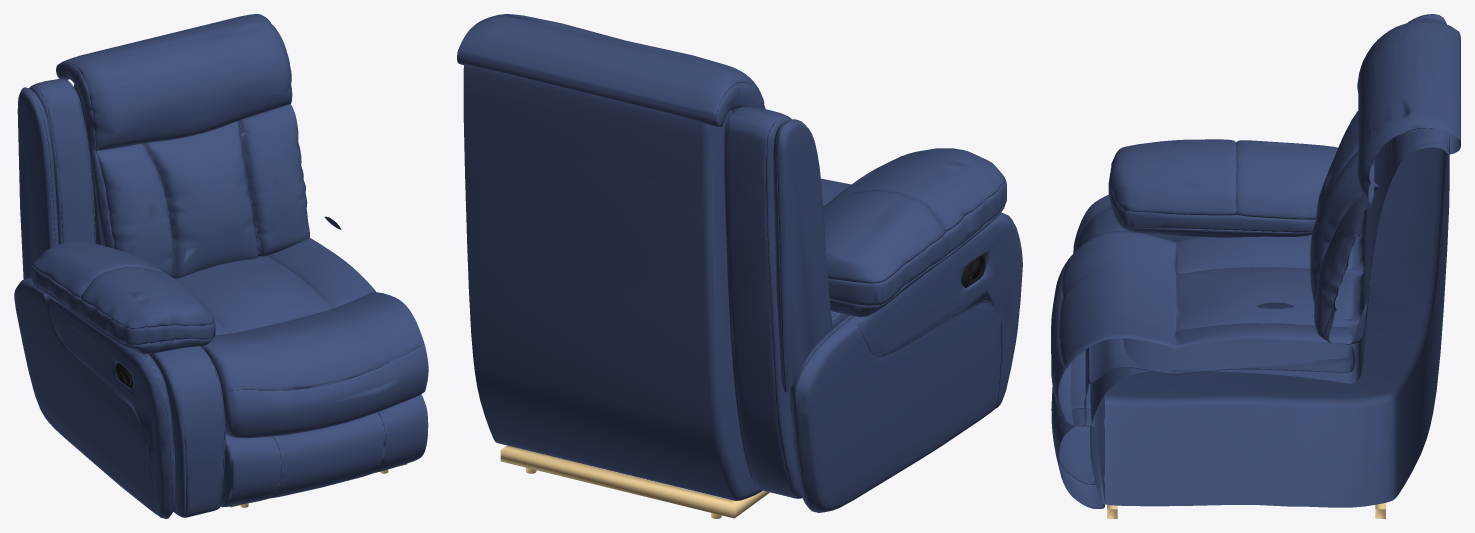
Rendered from seat_recliner.glb.
The picture shows the model from 3 angles, left to right: view 1: azimuth 30°, elevation 25°; view 2: azimuth 150°, elevation 25°; view 3: azimuth 270°, elevation 25°; orthographic projection. The views are drawn at different scales.
Parts seen in each view (by area): view 1: seat_recliner; view 2: seat_recliner; view 3: seat_recliner.
Boxes of the visible parts, left/top/right/bottom form: seat_recliner: left=14, top=14, right=428, bottom=518; seat_recliner: left=457, top=14, right=1022, bottom=518; seat_recliner: left=1051, top=14, right=1460, bottom=518.
Size of the model in its own units: 0.8539 by 1.05 by 0.9735.
